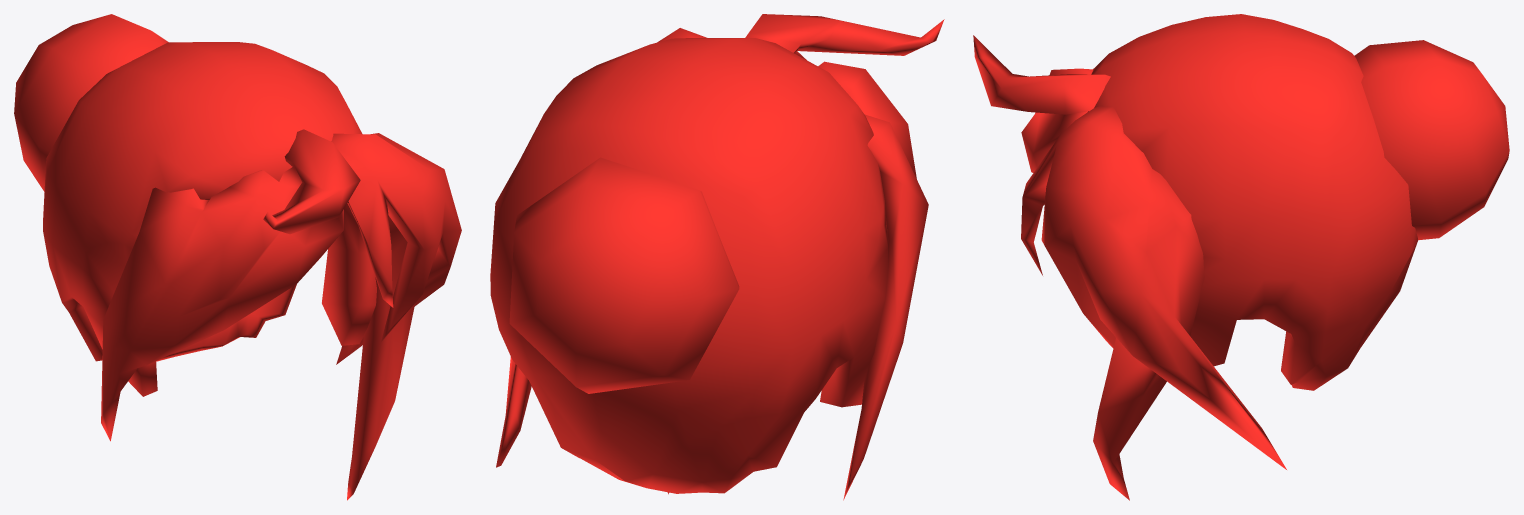
File: hair.FBX
3 renders of one model, left to right at view 1: azimuth 30°, elevation 25°; view 2: azimuth 150°, elevation 25°; view 3: azimuth 270°, elevation 25°, orthographic. The views are drawn at different scales.
Parts seen in each view (by area): view 1: hair; view 2: hair; view 3: hair.
Part boxes in pixels (x1,y1,x2,y2): hair: [14, 14, 461, 500]; hair: [490, 14, 944, 500]; hair: [973, 14, 1509, 500].
Size of the model in its own units: 30.13 by 42.46 by 37.53.
